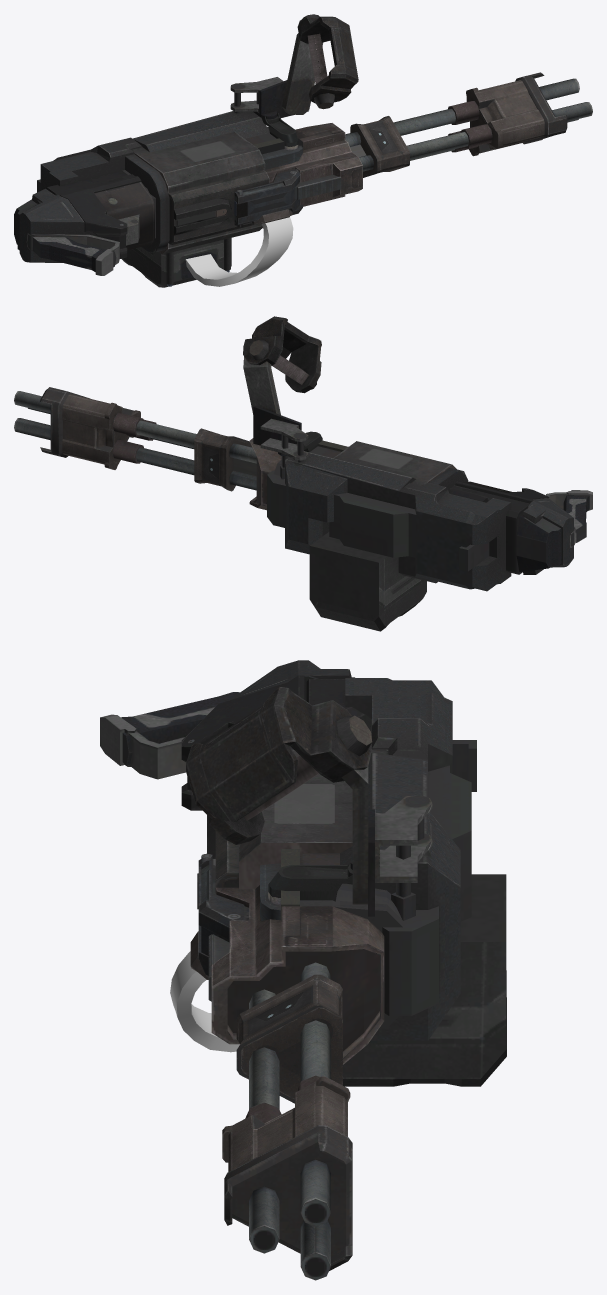
File: t6_wpn_minigun_world_LOD_0.obj
3 renders of one model, top to bottom at view 1: azimuth 30°, elevation 25°; view 2: azimuth 150°, elevation 25°; view 3: azimuth 270°, elevation 25°, orthographic. The views are drawn at different scales.
Parts seen in each view (by area): view 1: TomGroup_0, TomGroup_1; view 2: TomGroup_0; view 3: TomGroup_0, TomGroup_1.
Boxes of the visible parts, <box> form: TomGroup_0: <box>14,14,592,287</box>; TomGroup_1: <box>185,217,293,286</box>; TomGroup_0: <box>14,316,592,631</box>; TomGroup_0: <box>100,660,506,1280</box>; TomGroup_1: <box>170,951,239,1052</box>.
Size of the model in its own units: 121 by 51.02 by 38.96.
